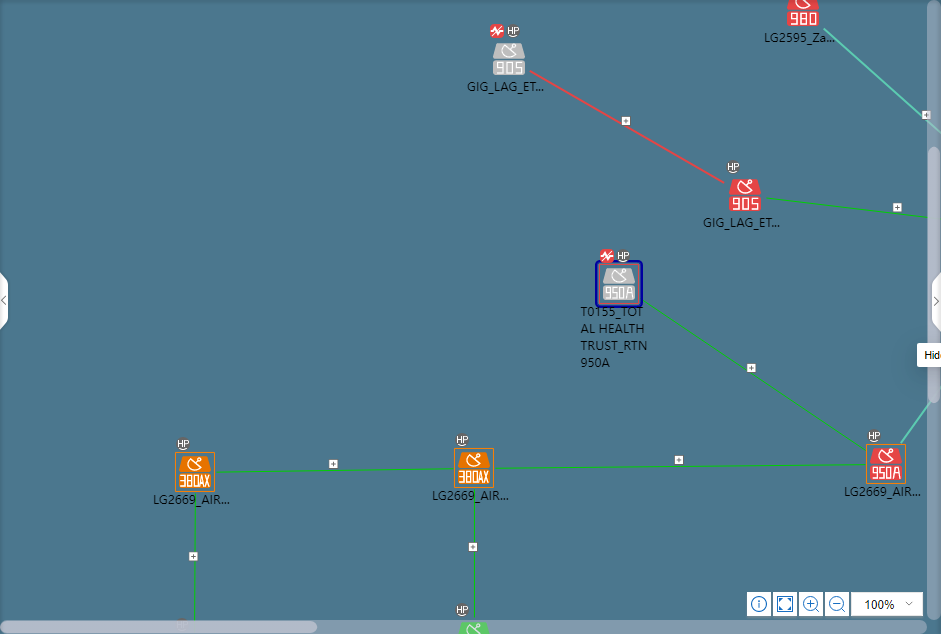Link_Blue: (823, 27, 938, 133), (900, 402, 931, 444)
Link_Green: (644, 299, 865, 454), (767, 196, 928, 220), (496, 463, 866, 470), (217, 467, 454, 474), (472, 490, 477, 620), (192, 493, 196, 621)
Link_Red: (528, 69, 725, 188)
RTN_Gray: (600, 268, 635, 302), (493, 43, 524, 75)
RTN_Orange: (174, 455, 212, 489), (457, 452, 489, 486)
RTN_Red: (867, 448, 903, 482), (729, 179, 760, 211), (787, 0, 818, 25)
